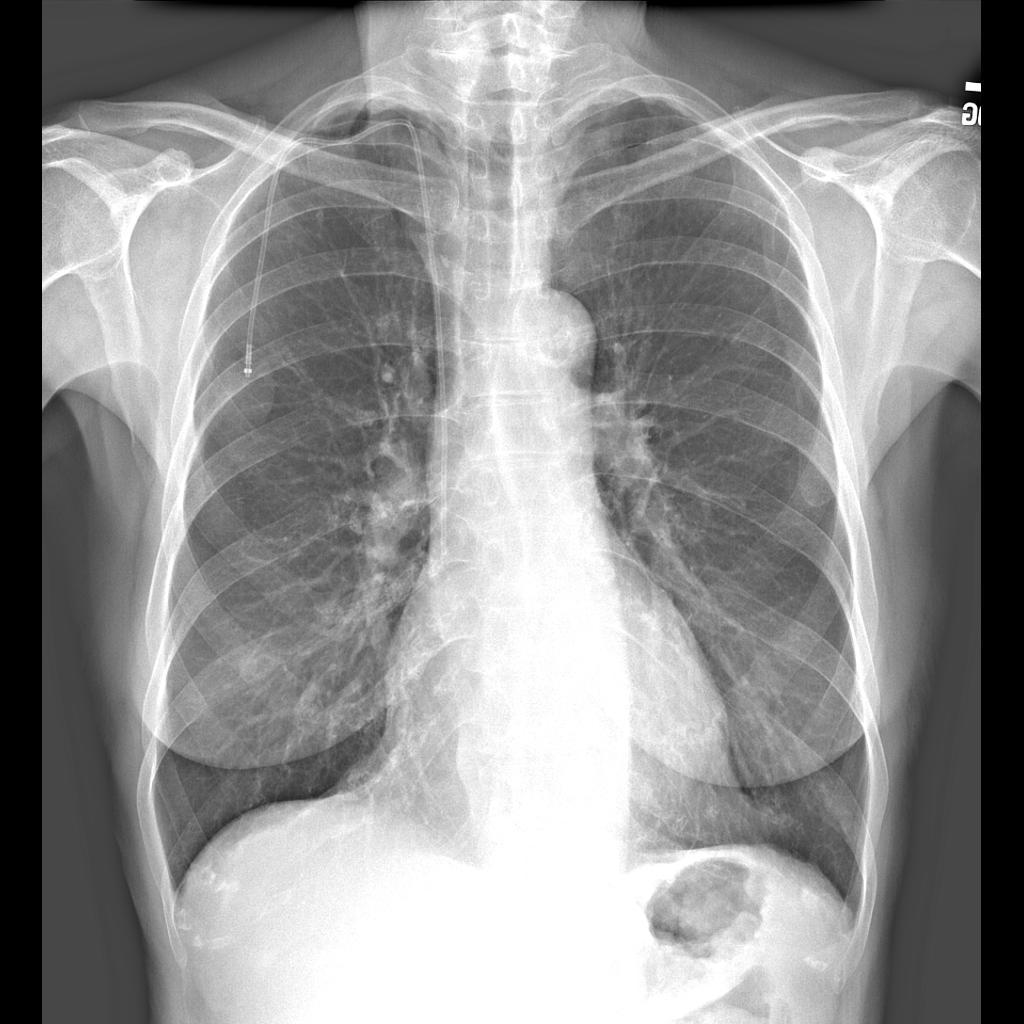Nodule: (241, 647, 283, 691)
